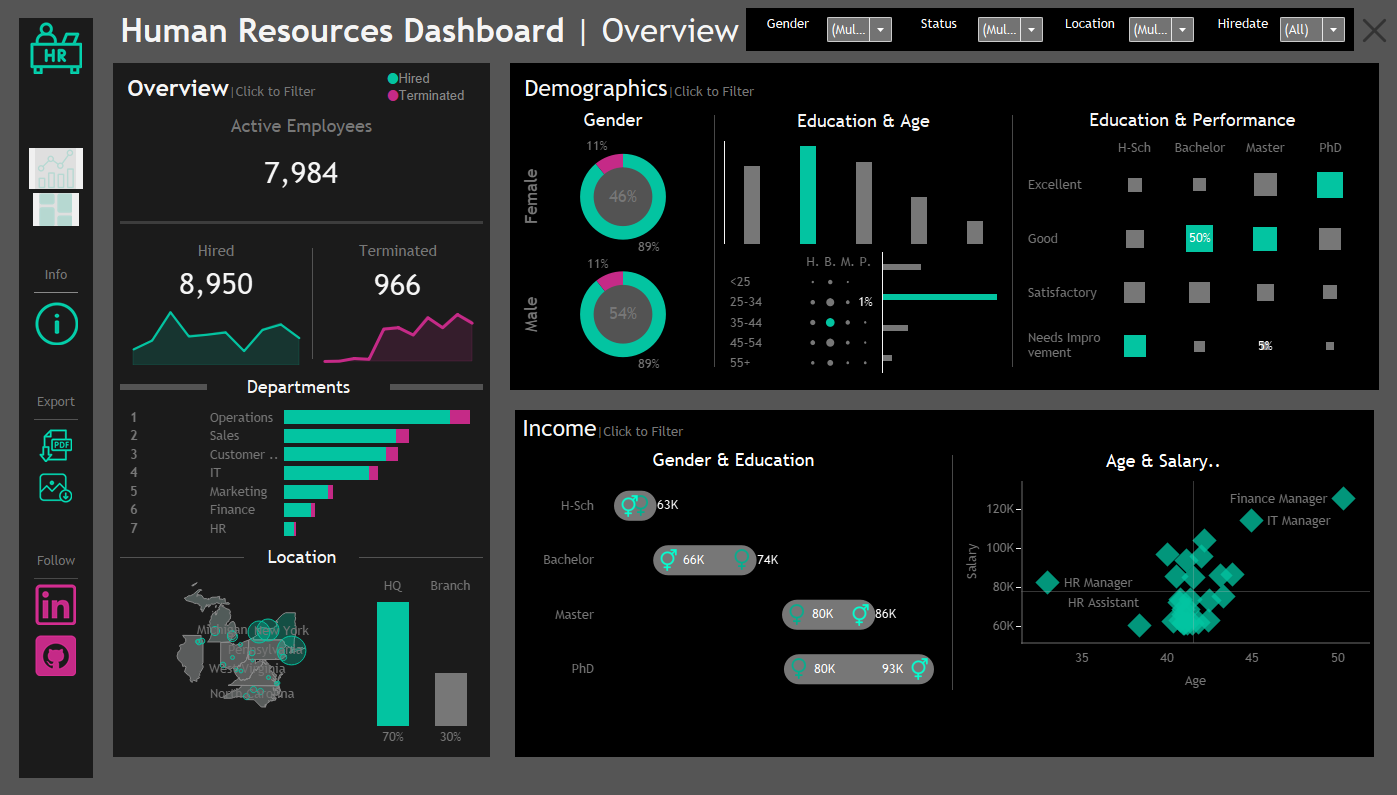

This screenshot's page, from the dashboard's own definition file:
{"tool":"tableau","page":{"name":"HR Dashboard","canvas":[1400,800],"ordinal":0},"visuals":[{"type":"blank","box":[90,0,1309,266]},{"type":"text","box":[114,0,691,65]},{"type":"blank","box":[805,0,575,65]},{"type":"dashboard-object","box":[1358,11,35,43]},{"type":"filter","title":"Gender vs Edu","param":"[federated.1fz8cw112cbttr136ejll0p76vus].[none:Gender:nk]","box":[749,12,151,39]},{"type":"filter","title":"Gender","param":"[federated.1fz8cw112cbttr136ejll0p76vus].[none:Calculation_685110110863790080:nk","box":[900,12,151,39]},{"type":"filter","title":"Location","param":"[federated.1fz8cw112cbttr136ejll0p76vus].[none:Calculation_750975253992726528:nk","box":[1051,12,151,39]},{"type":"filter","title":"Gender vs Edu","param":"[federated.1fz8cw112cbttr136ejll0p76vus].[yr:Hiredate:ok]","box":[1202,12,151,39]},{"type":"image","param":"Image/hr.png","box":[20,20,74,60]},{"type":"text","box":[385,71,106,40]},{"type":"text","box":[121,72,363,35]},{"type":"text","box":[518,72,855,35]},{"type":"blank","box":[20,80,74,60]},{"type":"text","box":[121,107,363,35]},{"type":"text","box":[518,107,192,29]},{"type":"blank","box":[715,107,1,272]},{"type":"text","box":[721,107,287,32]},{"type":"blank","box":[1013,107,1,272]},{"type":"text","box":[1019,107,349,29]},{"type":"worksheet","title":"Gender","mark":"Pie","rows":["Gender"],"cols":["Calculation_750975254009049090","Calculation_750975254009159684"],"box":[518,136,192,243]},{"type":"worksheet","title":"Edu vs Perf","mark":"Square","rows":["Performance Rating"],"cols":["Education Level"],"box":[1019,136,349,243]},{"type":"worksheet","title":"Age Group","mark":"Bar","rows":["Calculation_1302666202039697410"],"cols":["Calculation_750975254014795782"],"box":[721,139,287,111]},{"type":"worksheet","title":"BAN Active","mark":"Text","box":[121,142,363,66]},{"type":"dashboard-object","box":[30,150,54,41.3]},{"type":"dashboard-object","box":[30,191.3,54,41.3]},{"type":"blank","box":[121,208,363,32]},{"type":"blank","box":[30,232.7,54,32]},{"type":"text","box":[121,240,192,26]},{"type":"blank","box":[313,240,1,131]},{"type":"text","box":[314,240,169.9,26]},{"type":"worksheet","title":"Age vs Education","mark":"Pie","rows":["Calculation_750975254014795782"],"cols":["Education Level"],"box":[721,250,158,129]},{"type":"worksheet","title":"Education Level","mark":"Bar","rows":["Education Level"],"cols":["Calculation_1302666202039697410"],"box":[879,250,129,129]},{"type":"text","box":[30,264.7,54,24]},{"type":"text","box":[90,266,1309,239]},{"type":"worksheet","title":"BAN Hired","mark":"Text","box":[121,266,192,40]},{"type":"worksheet","title":"BAN Terminated","mark":"Text","box":[314,266,169.9,42]},{"type":"blank","box":[30,288.7,54,11]},{"type":"dashboard-object","box":[30,299.7,54,51.4]},{"type":"worksheet","title":"Hired By Year","mark":"Line","rows":["Calculation_1302666202039697410","Calculation_1302666202039697410"],"cols":["Hiredate"],"box":[121,306,192,65]},{"type":"worksheet","title":"Terminated By Year","mark":"Line","rows":["Calculation_1302666202036518913","Calculation_1302666202036518913"],"cols":["Termdate"],"box":[314,308,169.9,63]},{"type":"blank","box":[30,351,54,41.3]},{"type":"blank","box":[121,371,87,35]},{"type":"text","box":[208,371,183,35]},{"type":"blank","box":[391,371,93,35]},{"type":"text","box":[30,392.4,54,24]},{"type":"worksheet","title":"Department","mark":"Bar","rows":["Calculation_1302666202053849092","Department"],"cols":["Calculation_1302666202039697410"],"box":[121,406,363,138]},{"type":"text","box":[516,412,859,35]},{"type":"blank","box":[30,416.4,54,11]},{"type":"dashboard-object","box":[30,427.4,54,41.3]},{"type":"text","box":[516,447,437,29]},{"type":"blank","box":[953,447,1,255]},{"type":"text","box":[954,447,421,32]},{"type":"dashboard-object","box":[30,468.7,54,41.3]},{"type":"worksheet","title":"Gender vs Edu","mark":"Square","rows":["Education Level"],"cols":["Salary","Salary"],"box":[516,476,437,226]},{"type":"worksheet","title":"Age vs Salary","mark":"Shape","rows":["Salary"],"cols":["Calculation_750975254013120517"],"box":[954,479,421,223]},{"type":"blank","box":[90,505,1309,295]},{"type":"blank","box":[30,510,54,41.3]},{"type":"blank","box":[121,544,123.7,30]},{"type":"text","box":[244.7,544,115.7,30]},{"type":"blank","box":[360.3,544,123.7,30]},{"type":"text","box":[30,551.3,54,24]},{"type":"worksheet","title":"Map States","mark":"Automatic","box":[121,574,239.8,178]},{"type":"worksheet","title":"Location","mark":"Bar","rows":["Calculation_1302666202039697410"],"cols":["Calculation_750975253992726528","Calculation1"],"box":[360.8,574,123.2,178]},{"type":"blank","box":[30,575.3,54,11]},{"type":"image","param":"Image/linkedin.png","box":[30,586.3,54,41.3]},{"type":"blank","box":[30,627.7,54,9]},{"type":"image","param":"Image/github.png","box":[30,636.7,54,41.3]}]}

Visuals, with their boxes on the page's 1400x800 design canvas (x1, y1, x2, y2). These are canvas units, not pixel positions in the 1397x795 screenshot, which may show the page scaled, cropped or inside an application window:
blank: (x1=90, y1=0, x2=1399, y2=266)
text: (x1=114, y1=0, x2=805, y2=65)
blank: (x1=805, y1=0, x2=1380, y2=65)
dashboard-object: (x1=1358, y1=11, x2=1393, y2=54)
"Gender vs Edu" filter: (x1=749, y1=12, x2=900, y2=51)
"Gender" filter: (x1=900, y1=12, x2=1051, y2=51)
"Location" filter: (x1=1051, y1=12, x2=1202, y2=51)
"Gender vs Edu" filter: (x1=1202, y1=12, x2=1353, y2=51)
image: (x1=20, y1=20, x2=94, y2=80)
text: (x1=385, y1=71, x2=491, y2=111)
text: (x1=121, y1=72, x2=484, y2=107)
text: (x1=518, y1=72, x2=1373, y2=107)
blank: (x1=20, y1=80, x2=94, y2=140)
text: (x1=121, y1=107, x2=484, y2=142)
text: (x1=518, y1=107, x2=710, y2=136)
blank: (x1=715, y1=107, x2=716, y2=379)
text: (x1=721, y1=107, x2=1008, y2=139)
blank: (x1=1013, y1=107, x2=1014, y2=379)
text: (x1=1019, y1=107, x2=1368, y2=136)
"Gender" worksheet (Pie marks): (x1=518, y1=136, x2=710, y2=379)
"Edu vs Perf" worksheet (Square marks): (x1=1019, y1=136, x2=1368, y2=379)
"Age Group" worksheet (Bar marks): (x1=721, y1=139, x2=1008, y2=250)
"BAN Active" worksheet (Text marks): (x1=121, y1=142, x2=484, y2=208)
dashboard-object: (x1=30, y1=150, x2=84, y2=191)
dashboard-object: (x1=30, y1=191, x2=84, y2=233)
blank: (x1=121, y1=208, x2=484, y2=240)
blank: (x1=30, y1=233, x2=84, y2=265)
text: (x1=121, y1=240, x2=313, y2=266)
blank: (x1=313, y1=240, x2=314, y2=371)
text: (x1=314, y1=240, x2=484, y2=266)
"Age vs Education" worksheet (Pie marks): (x1=721, y1=250, x2=879, y2=379)
"Education Level" worksheet (Bar marks): (x1=879, y1=250, x2=1008, y2=379)
text: (x1=30, y1=265, x2=84, y2=289)
text: (x1=90, y1=266, x2=1399, y2=505)
"BAN Hired" worksheet (Text marks): (x1=121, y1=266, x2=313, y2=306)
"BAN Terminated" worksheet (Text marks): (x1=314, y1=266, x2=484, y2=308)
blank: (x1=30, y1=289, x2=84, y2=300)
dashboard-object: (x1=30, y1=300, x2=84, y2=351)
"Hired By Year" worksheet (Line marks): (x1=121, y1=306, x2=313, y2=371)
"Terminated By Year" worksheet (Line marks): (x1=314, y1=308, x2=484, y2=371)
blank: (x1=30, y1=351, x2=84, y2=392)
blank: (x1=121, y1=371, x2=208, y2=406)
text: (x1=208, y1=371, x2=391, y2=406)
blank: (x1=391, y1=371, x2=484, y2=406)
text: (x1=30, y1=392, x2=84, y2=416)
"Department" worksheet (Bar marks): (x1=121, y1=406, x2=484, y2=544)
text: (x1=516, y1=412, x2=1375, y2=447)
blank: (x1=30, y1=416, x2=84, y2=427)
dashboard-object: (x1=30, y1=427, x2=84, y2=469)
text: (x1=516, y1=447, x2=953, y2=476)
blank: (x1=953, y1=447, x2=954, y2=702)
text: (x1=954, y1=447, x2=1375, y2=479)
dashboard-object: (x1=30, y1=469, x2=84, y2=510)
"Gender vs Edu" worksheet (Square marks): (x1=516, y1=476, x2=953, y2=702)
"Age vs Salary" worksheet (Shape marks): (x1=954, y1=479, x2=1375, y2=702)
blank: (x1=90, y1=505, x2=1399, y2=800)
blank: (x1=30, y1=510, x2=84, y2=551)
blank: (x1=121, y1=544, x2=245, y2=574)
text: (x1=245, y1=544, x2=360, y2=574)
blank: (x1=360, y1=544, x2=484, y2=574)
text: (x1=30, y1=551, x2=84, y2=575)
"Map States" worksheet: (x1=121, y1=574, x2=361, y2=752)
"Location" worksheet (Bar marks): (x1=361, y1=574, x2=484, y2=752)
blank: (x1=30, y1=575, x2=84, y2=586)
image: (x1=30, y1=586, x2=84, y2=628)
blank: (x1=30, y1=628, x2=84, y2=637)
image: (x1=30, y1=637, x2=84, y2=678)
